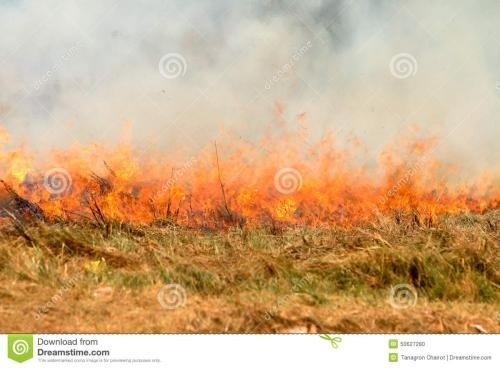fire: (33, 105, 500, 233)
